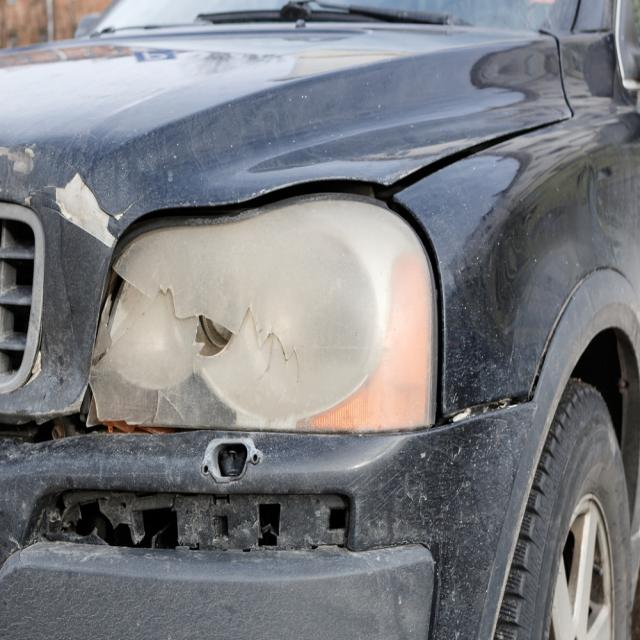Phare abime: (78, 172, 462, 467)
Rayure: (58, 167, 122, 261)
